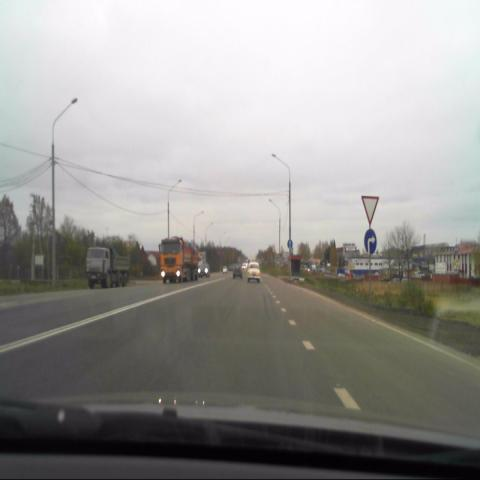2_4: (360, 195, 380, 226)
4_1_2: (363, 229, 377, 255)
